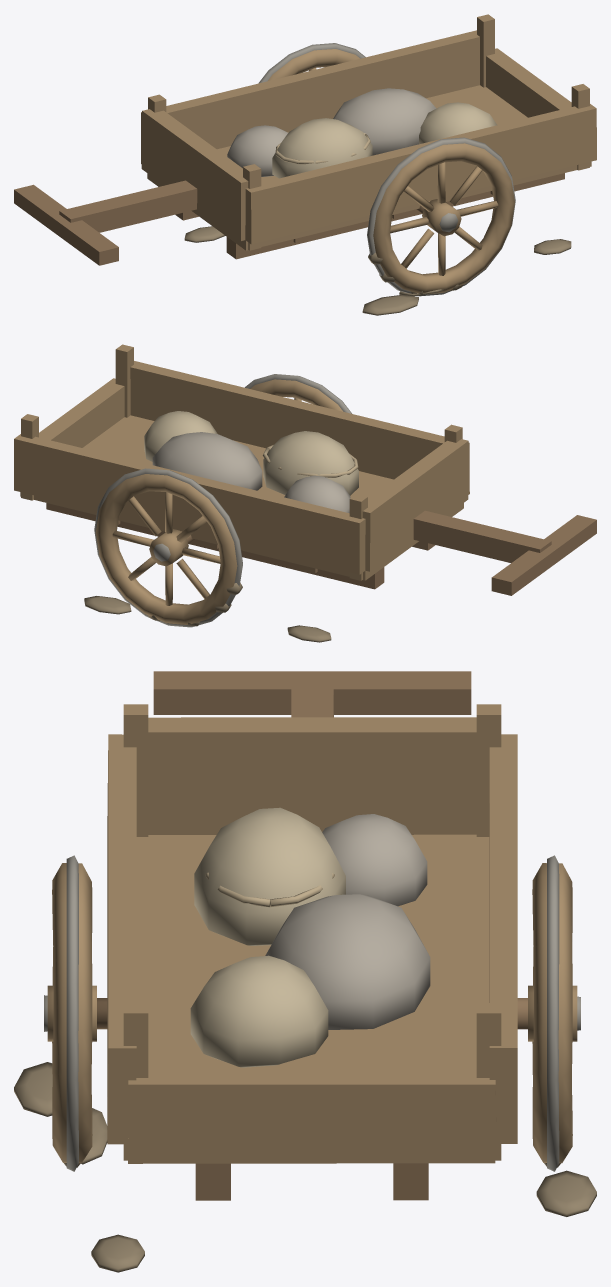
File: road_cart.glb
The picture shows the model from 3 angles, top to bottom: view 1: azimuth 30°, elevation 25°; view 2: azimuth 150°, elevation 25°; view 3: azimuth 270°, elevation 25°; orthographic projection. The views are drawn at different scales.
Parts seen in each view (by area): view 1: Cart_Bed, Cart_WheelL, Cart_Cargo, Cart_Frame, Cart_WheelR, Cart_Mud; view 2: Cart_Bed, Cart_WheelR, Cart_Cargo, Cart_Frame, Cart_WheelL, Cart_Mud; view 3: Cart_Bed, Cart_Cargo, Cart_Frame, Cart_WheelR, Cart_WheelL, Cart_Mud.
Part boxes in pixels (box(x1,y1,x2,y2)): Cart_Bed: box(141, 14, 596, 250); Cart_WheelL: box(367, 137, 515, 296); Cart_Cargo: box(227, 88, 497, 178); Cart_Frame: box(14, 173, 564, 265); Cart_WheelR: box(258, 43, 365, 83); Cart_Mud: box(184, 226, 571, 315); Cart_Bed: box(14, 344, 469, 580); Cart_WheelR: box(94, 468, 242, 627); Cart_Cargo: box(144, 411, 358, 513); Cart_Frame: box(46, 503, 596, 595); Cart_WheelL: box(245, 374, 351, 413); Cart_Mud: box(84, 596, 331, 642); Cart_Bed: box(107, 704, 517, 1163); Cart_Cargo: box(190, 807, 430, 1067); Cart_Frame: box(44, 671, 580, 1200); Cart_WheelR: box(528, 855, 577, 1171); Cart_WheelL: box(47, 855, 96, 1171); Cart_Mud: box(14, 1062, 596, 1272).
Size of the model in its own units: 2.98 by 0.9116 by 1.65.
